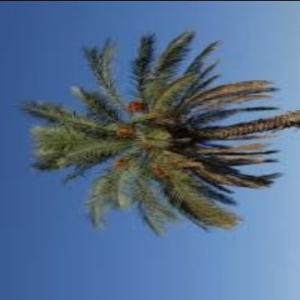palm tree: (15, 29, 299, 236)
